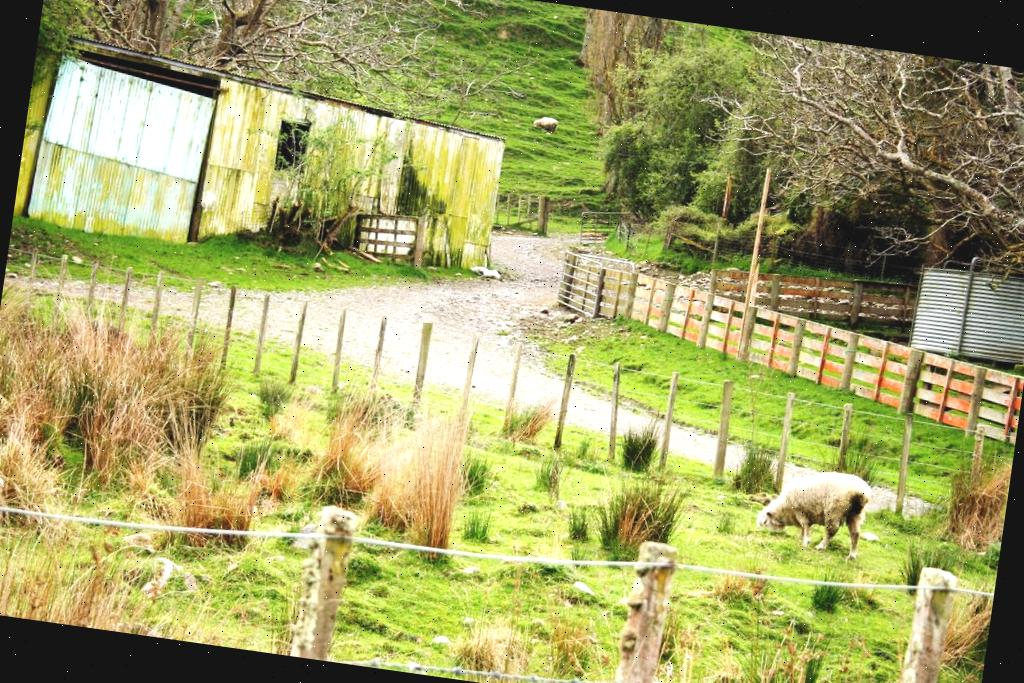Sheep: (736, 454, 885, 557), (524, 109, 563, 131)
